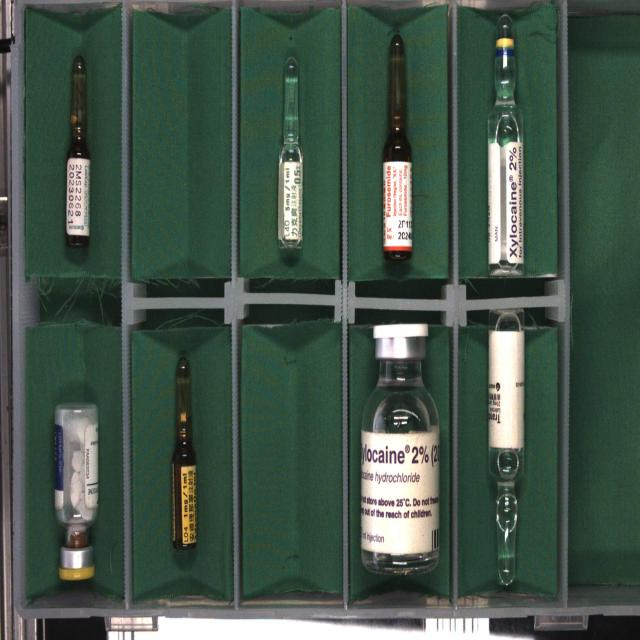Vials: (361, 323, 439, 574), (53, 403, 99, 581)
